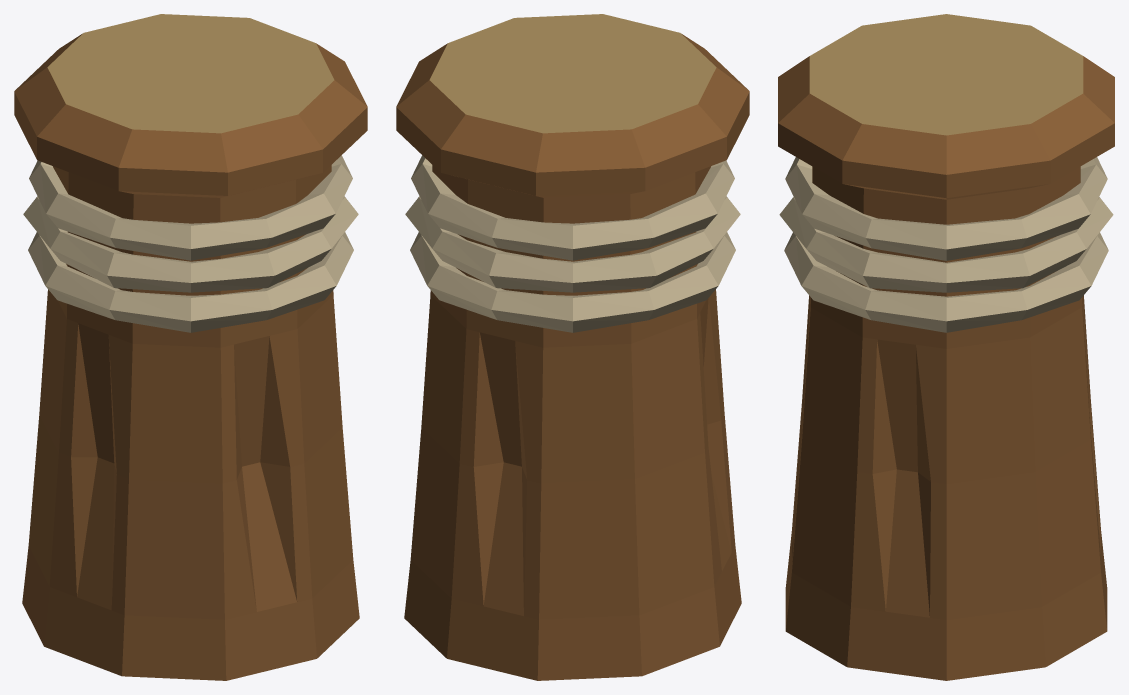
Rendered from mooring-post-2b83a4.glb.
3 renders of one model, left to right at view 1: azimuth 30°, elevation 25°; view 2: azimuth 150°, elevation 25°; view 3: azimuth 270°, elevation 25°, orthographic.
Parts seen in each view (by area): view 1: post, rope; view 2: post, rope; view 3: post, rope.
Boxes of the visible parts, box(x1,y1,x2,y2) form: post: box(14, 14, 367, 680); rope: box(23, 155, 358, 332); post: box(396, 14, 749, 680); rope: box(405, 155, 740, 332); post: box(778, 14, 1114, 680); rope: box(779, 157, 1113, 332).
Size of the model in its own units: 0.66 by 1.1 by 0.6277.
